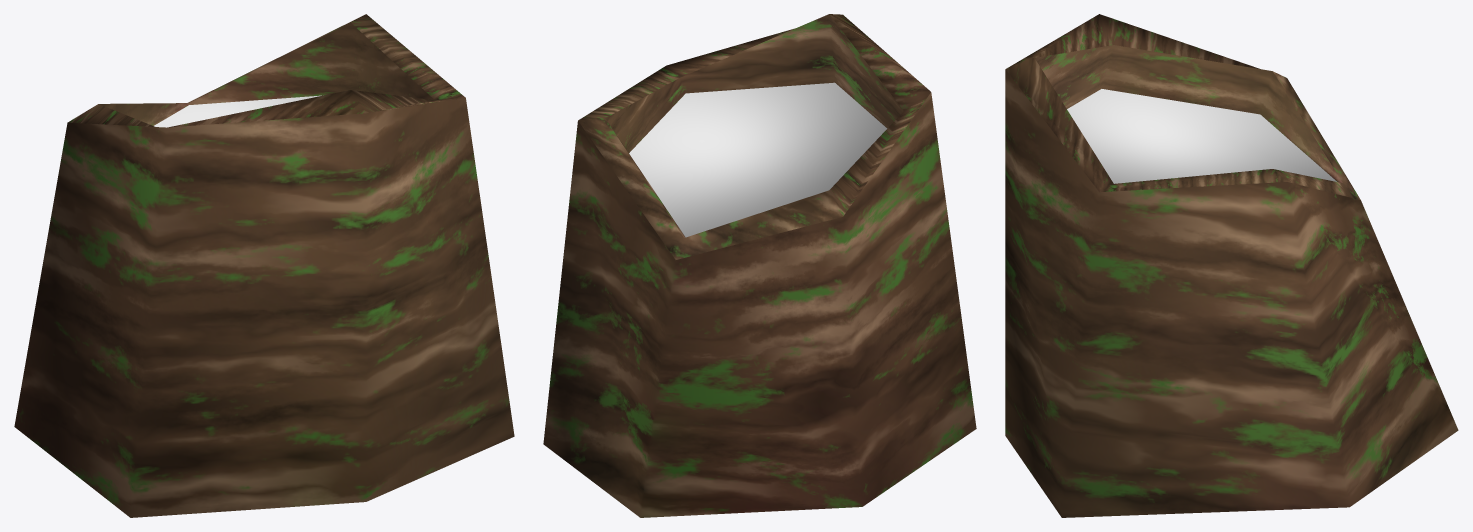
Rendered from Treesteam.fbx.
3 views of the same model, side by side, from view 1: azimuth 30°, elevation 25°; view 2: azimuth 150°, elevation 25°; view 3: azimuth 270°, elevation 25° (orthographic). The views are drawn at different scales.
Parts seen in each view (by area): view 1: Treesteam; view 2: Treesteam; view 3: Treesteam.
Part boxes in pixels (x1,y1,x2,y2): Treesteam: (14,14,514,517); Treesteam: (543,14,976,517); Treesteam: (1005,14,1458,517).
Bounding box in the file's own units: 314 × 324 × 352.
